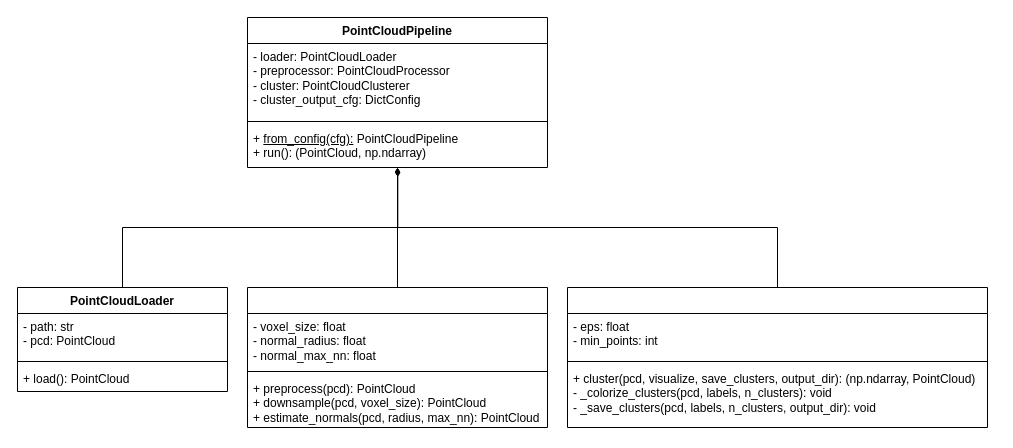
This 1013x448 diagram has some shape labels left out. Here are the shapes that lost their labels. From the top down, the box of each, then its label:
(246, 286, 548, 428): PointCloudPreprocessor
(566, 286, 988, 428): PointCloudClusterer
